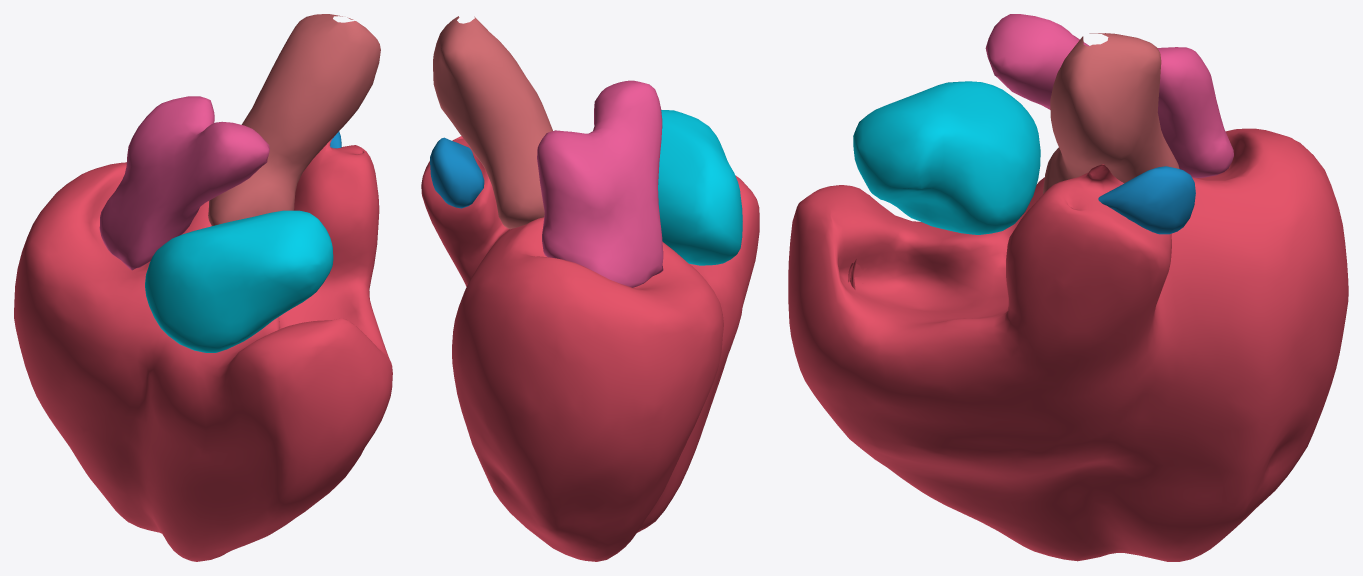
Rendered from frame_3.glb.
The picture shows the model from 3 angles, left to right: view 1: azimuth 30°, elevation 25°; view 2: azimuth 150°, elevation 25°; view 3: azimuth 270°, elevation 25°; orthographic projection. The views are drawn at different scales.
Parts seen in each view (by area): view 1: Renderer Node; view 2: Renderer Node; view 3: Renderer Node.
Boxes of the visible parts, box(x1,y1,x2,y2) form: Renderer Node: box(14, 14, 392, 561); Renderer Node: box(421, 16, 759, 561); Renderer Node: box(788, 14, 1348, 561).
Size of the model in its own units: 105 by 161 by 133.
